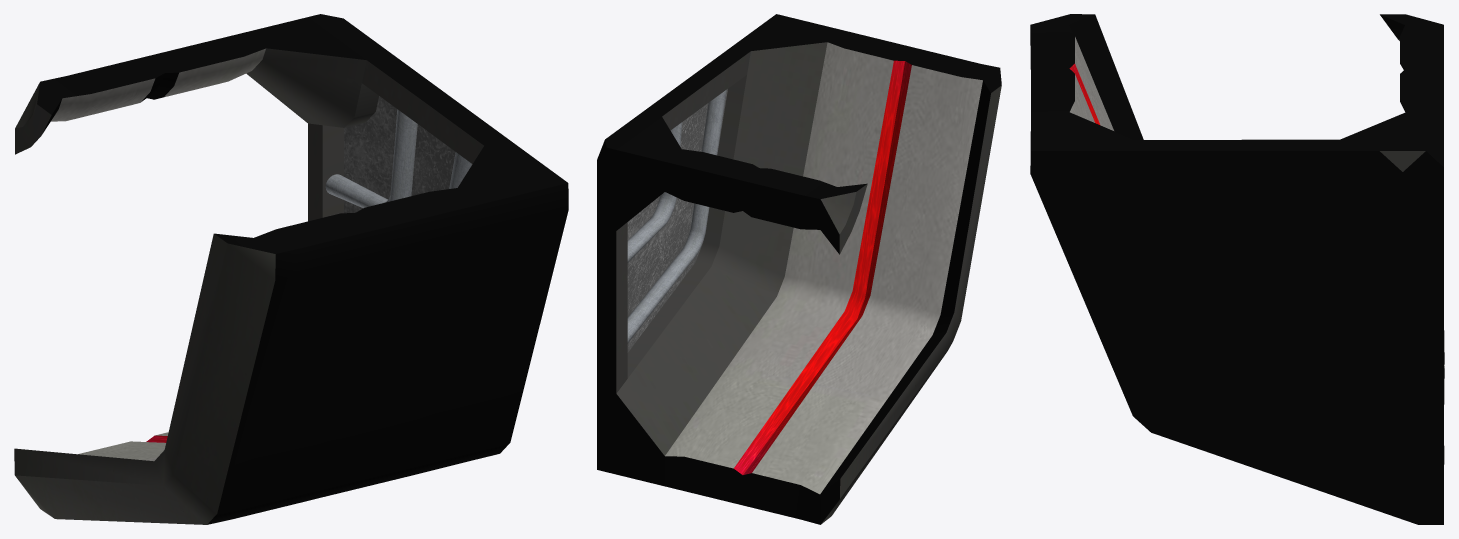
File: CornerTunnel.fbx
The picture shows the model from 3 angles, left to right: view 1: azimuth 30°, elevation 25°; view 2: azimuth 150°, elevation 25°; view 3: azimuth 270°, elevation 25°; orthographic projection. The views are drawn at different scales.
Parts seen in each view (by area): view 1: TunnelTurn; view 2: TunnelTurn; view 3: TunnelTurn.
Boxes of the visible parts, x1,y1,x2,y2 form: TunnelTurn: [14, 14, 568, 524]; TunnelTurn: [597, 14, 1001, 524]; TunnelTurn: [1030, 14, 1444, 524].
Size of the model in its own units: 12.52 by 16.03 by 16.04.
1 material, 1 textured.
